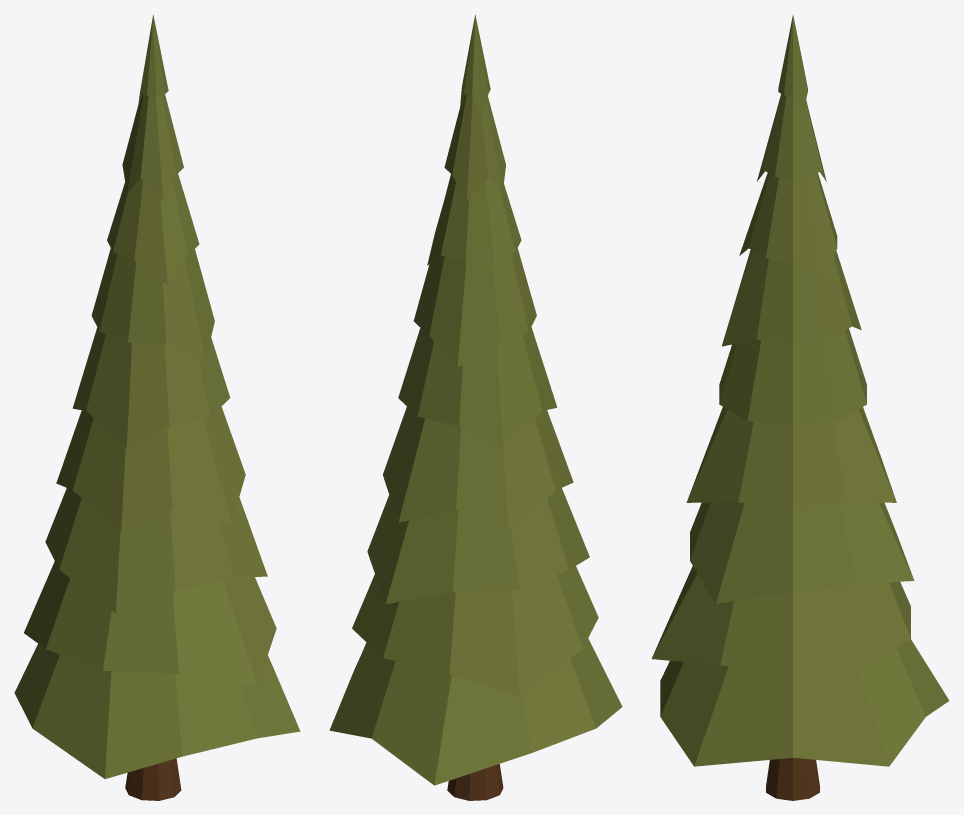
File: tree01.fbx
3 views of the same model, side by side, from view 1: azimuth 30°, elevation 25°; view 2: azimuth 150°, elevation 25°; view 3: azimuth 270°, elevation 25° (orthographic).
Visible parts, largest first — view 1: tree1; view 2: tree1; view 3: tree1.
Part boxes in pixels (x1,y1,x2,y2): tree1: [14, 15, 300, 800]; tree1: [329, 15, 622, 800]; tree1: [651, 14, 949, 800].
Size of the model in its own units: 88.45 by 271 by 94.48.
